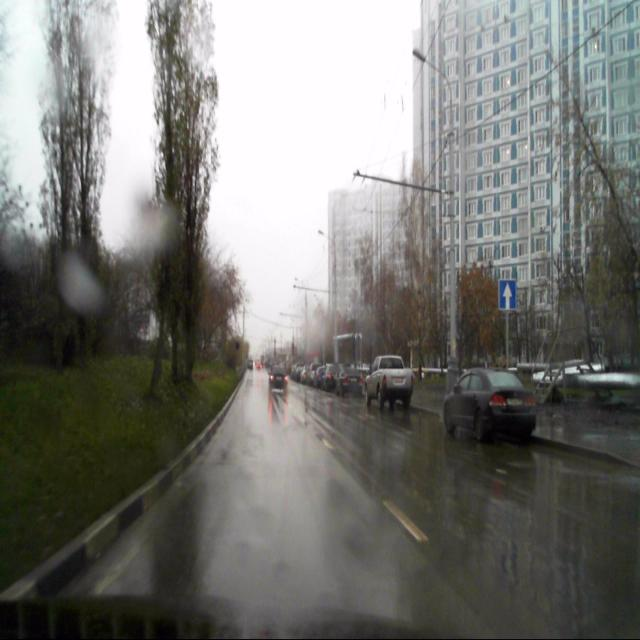road sign: (498, 279, 516, 309)
